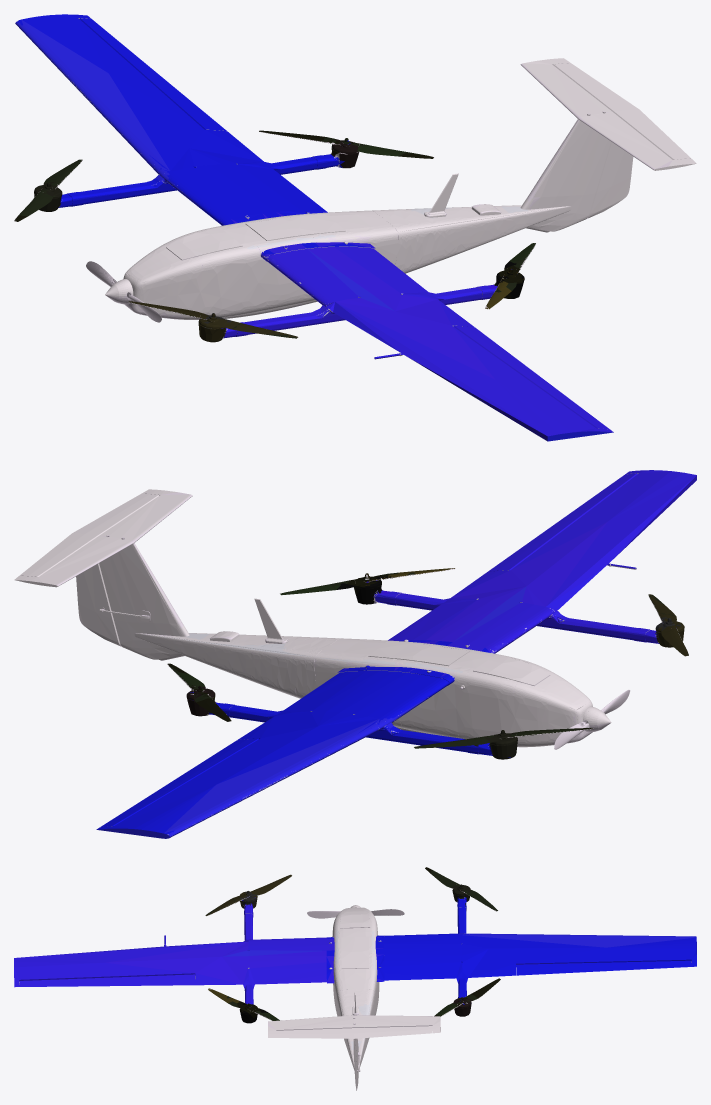
The model's file is new_drone.glb.
3 views of the same model, one above another, from view 1: azimuth 30°, elevation 25°; view 2: azimuth 150°, elevation 25°; view 3: azimuth 270°, elevation 25° (orthographic). The views are drawn at different scales.
Visible parts, largest first — view 1: FabConvert.com_vtol_concept; view 2: FabConvert.com_vtol_concept; view 3: FabConvert.com_vtol_concept.
Boxes of the visible parts, left/top/right/bottom form: FabConvert.com_vtol_concept: left=14, top=14, right=696, bottom=441; FabConvert.com_vtol_concept: left=14, top=470, right=696, bottom=838; FabConvert.com_vtol_concept: left=14, top=867, right=696, bottom=1090.
Bounding box in the file's own units: 1999 × 396 × 3200.
